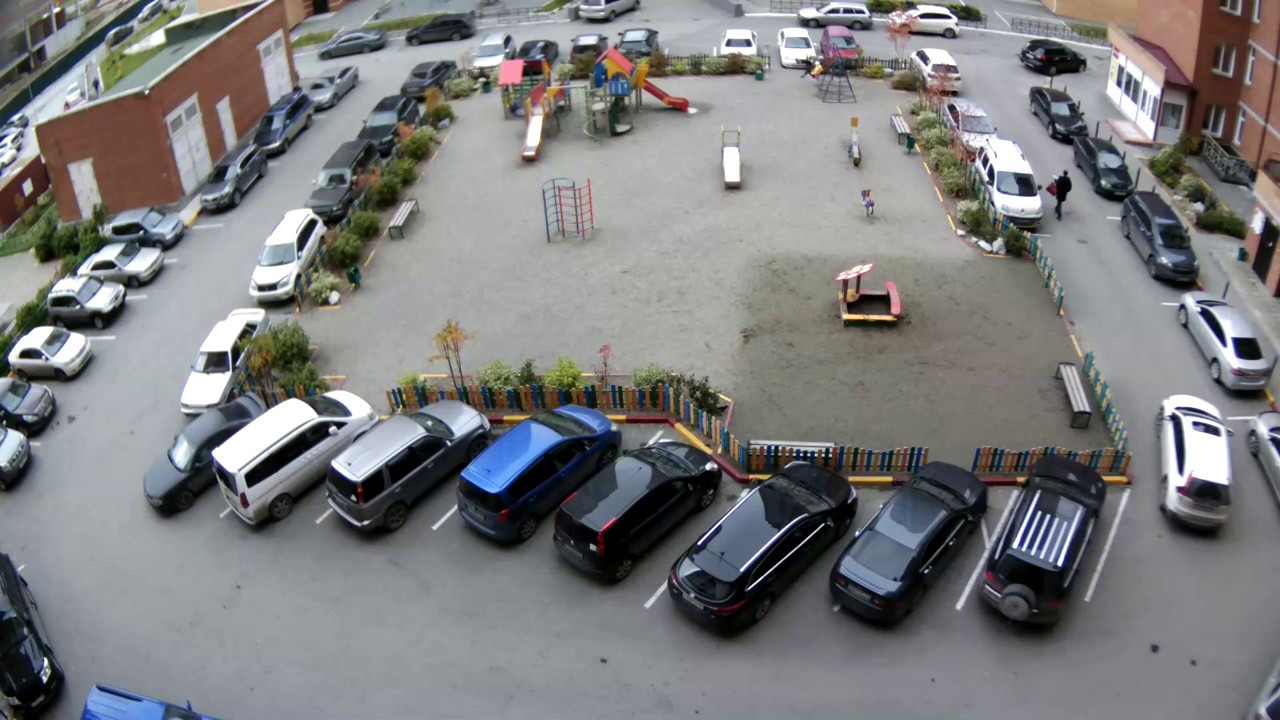Car: (667, 462, 859, 632), (828, 461, 988, 627), (552, 441, 722, 583), (976, 456, 1110, 633), (457, 405, 622, 544), (212, 390, 378, 527), (326, 401, 491, 531), (142, 393, 269, 517), (0, 550, 65, 717), (1157, 394, 1233, 531), (179, 306, 271, 417), (1177, 291, 1275, 393), (248, 208, 328, 305), (1121, 190, 1199, 285), (973, 138, 1044, 229), (306, 139, 380, 224), (198, 140, 269, 214), (80, 684, 225, 720), (8, 326, 93, 381), (46, 277, 127, 328), (357, 94, 421, 157), (1072, 136, 1135, 200), (254, 90, 314, 157), (77, 242, 166, 287), (0, 377, 59, 435), (1028, 86, 1088, 143), (103, 207, 185, 248), (1247, 410, 1280, 508), (944, 98, 998, 154), (883, 4, 960, 39), (305, 65, 360, 112), (404, 12, 477, 46), (464, 31, 517, 77), (401, 59, 458, 101), (1019, 40, 1087, 75), (318, 28, 389, 61), (911, 48, 961, 93), (0, 425, 32, 491), (797, 2, 873, 29), (513, 38, 560, 78), (777, 27, 818, 69), (568, 33, 609, 69), (617, 27, 660, 58), (578, 0, 641, 21), (821, 26, 860, 59), (719, 29, 759, 56), (104, 24, 134, 49), (135, 0, 164, 22), (0, 133, 23, 152), (5, 113, 29, 128), (0, 150, 16, 168), (0, 127, 25, 137)
